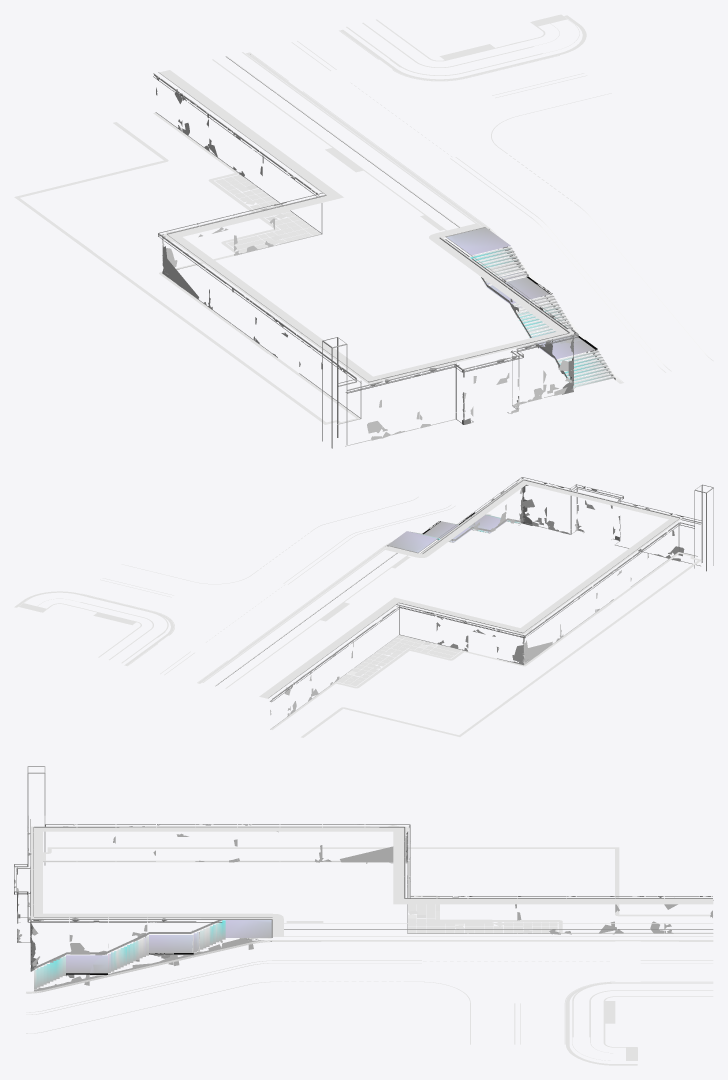
3 renders of one model, top to bottom at view 1: azimuth 30°, elevation 25°; view 2: azimuth 150°, elevation 25°; view 3: azimuth 270°, elevation 25°, orthographic. The views are drawn at different scales.
Visible parts, largest first — view 1: SM_I_RoadFacility_Ground_C_04C; view 2: SM_I_RoadFacility_Ground_C_04C; view 3: SM_I_RoadFacility_Ground_C_04C.
Boxes of the visible parts, left/top/right/bottom form: SM_I_RoadFacility_Ground_C_04C: left=14, top=14, right=713, bottom=448; SM_I_RoadFacility_Ground_C_04C: left=14, top=477, right=713, bottom=737; SM_I_RoadFacility_Ground_C_04C: left=14, top=766, right=713, bottom=1065.
Bounding box in the file's own units: 2636 × 2265 × 403.
